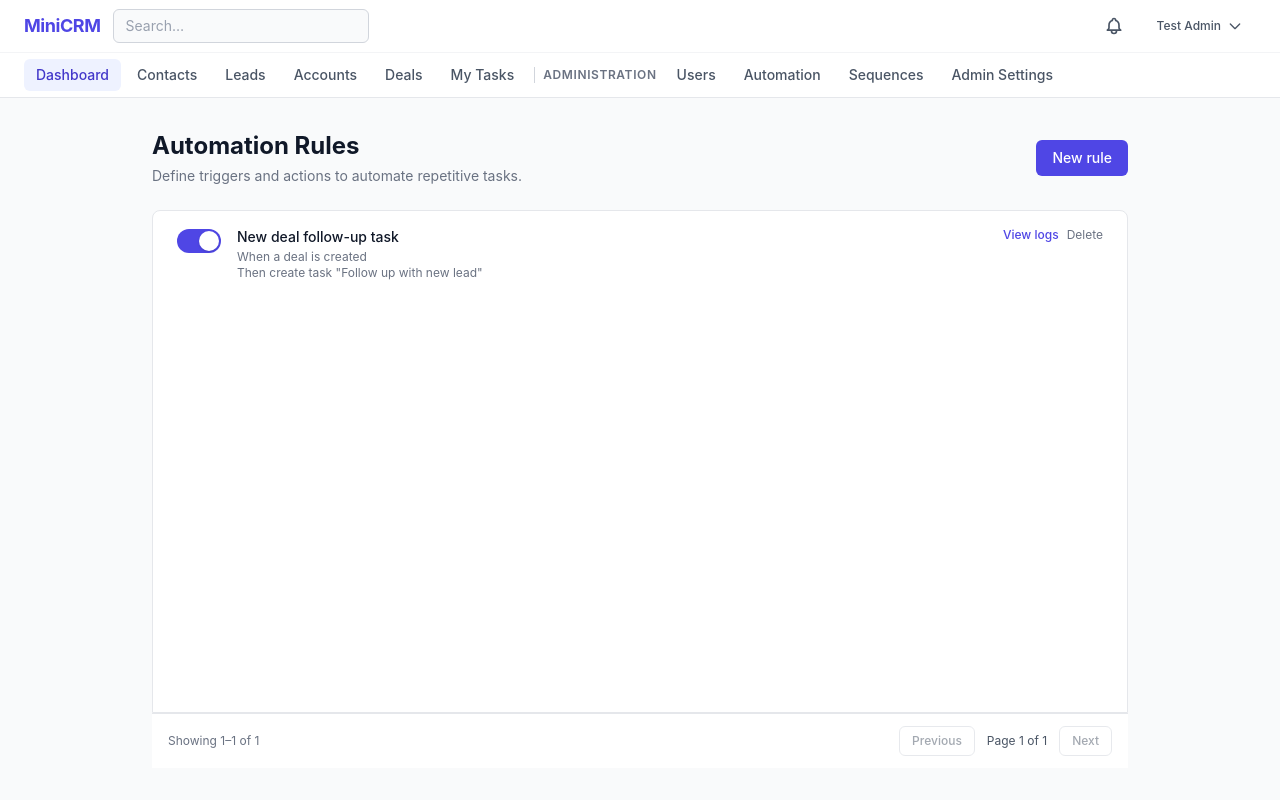
Test: AutomationRulesPage › create rule form › hides the "New rule" button when the form is open
Click the button with test id "new-rule-button". click: click(1082, 158)
box: [1036, 140, 1128, 176]
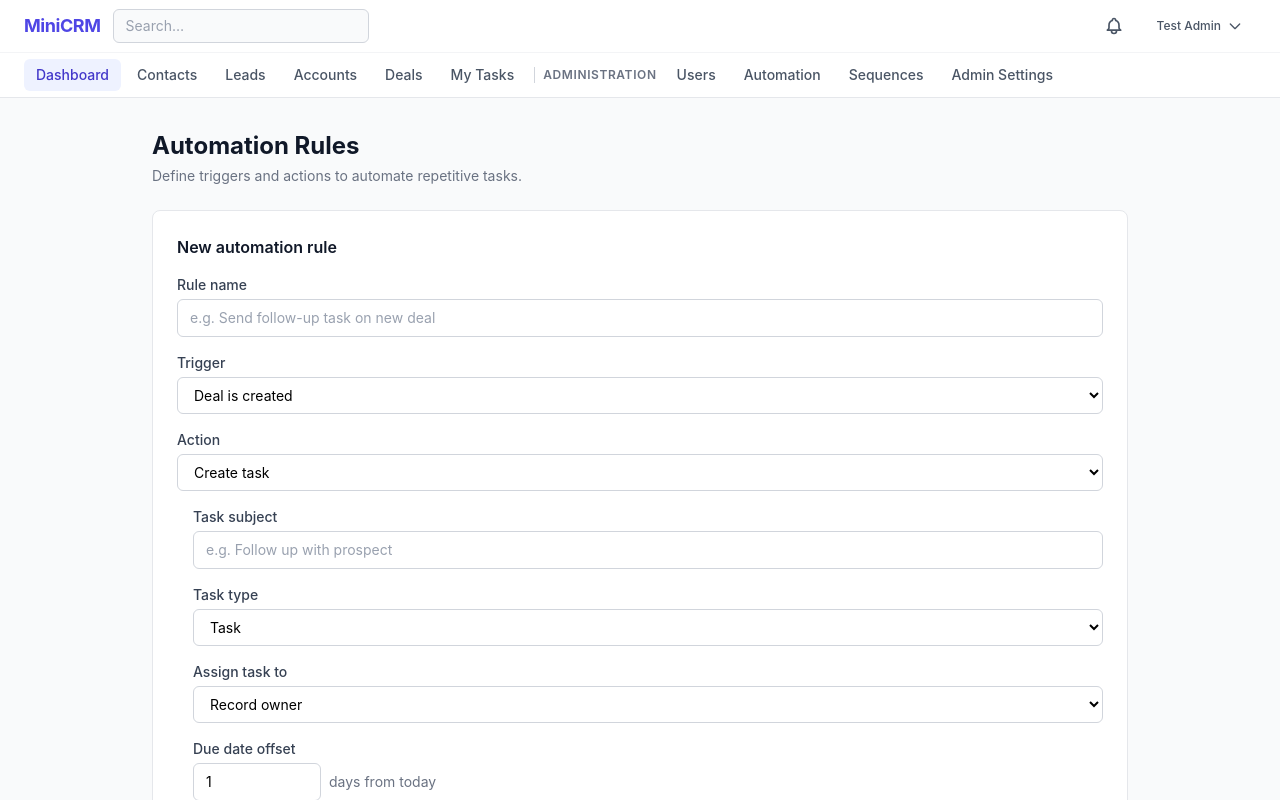
Expected: the button with test id "new-rule-button" is gone
